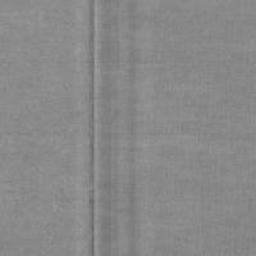Welding line: (88, 0, 97, 256)
